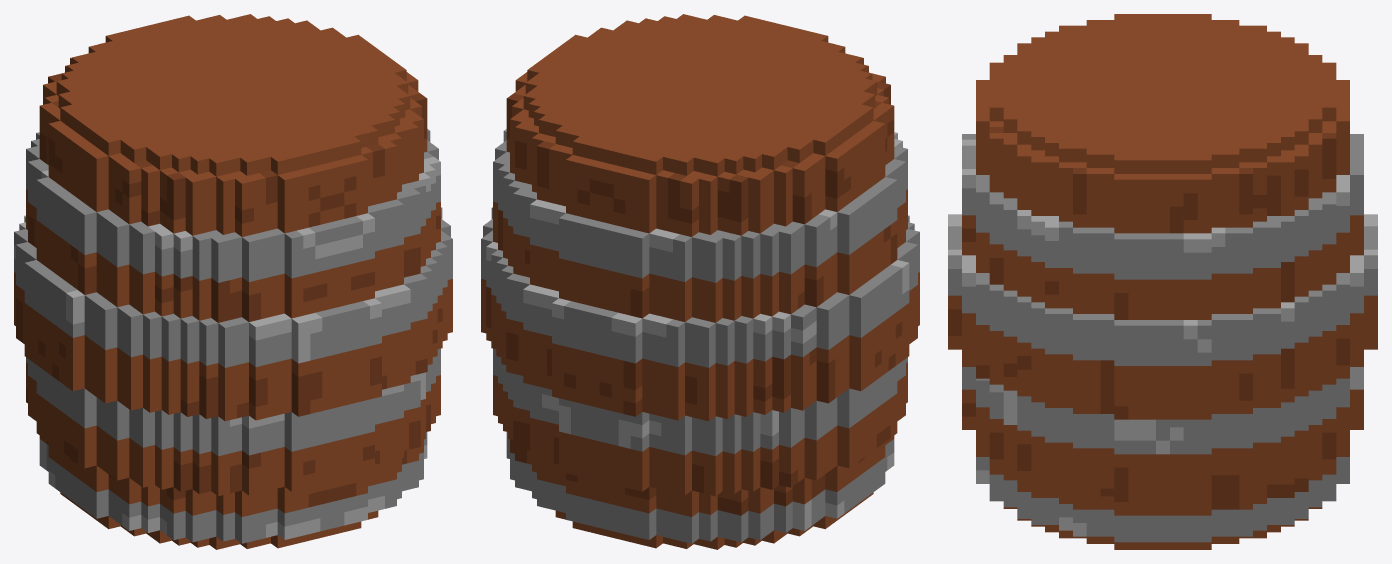
File: Barrel.fbx
The picture shows the model from 3 angles, left to right: view 1: azimuth 30°, elevation 25°; view 2: azimuth 150°, elevation 25°; view 3: azimuth 270°, elevation 25°; orthographic projection.
Visible parts, largest first — view 1: Cube.5345; view 2: Cube.5345; view 3: Cube.5345.
Boxes of the visible parts, x1=… form: Cube.5345: x1=14, y1=14, x2=452, y2=549; Cube.5345: x1=481, y1=14, x2=919, y2=549; Cube.5345: x1=948, y1=14, x2=1377, y2=549.
Bounding box in the file's own units: 50 × 50 × 50.
